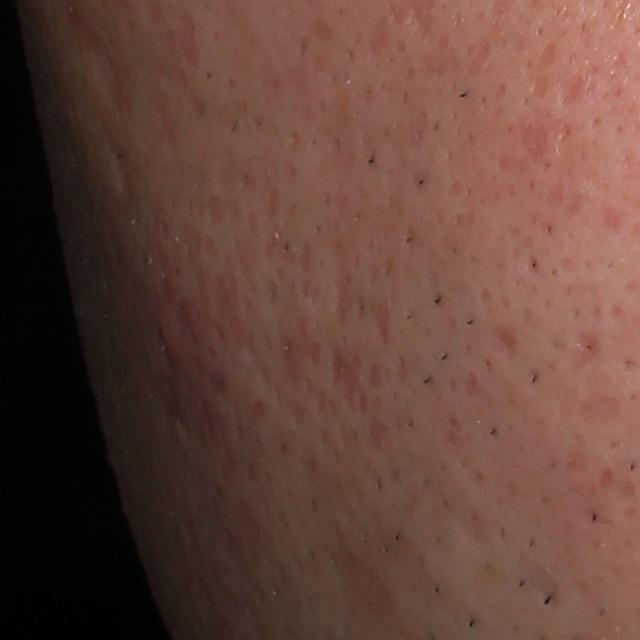atrophic_scar: (81, 25, 136, 111), (201, 272, 242, 347), (108, 138, 140, 200), (577, 388, 625, 428), (562, 328, 601, 375), (332, 349, 360, 410), (464, 31, 494, 82), (523, 125, 550, 167), (489, 325, 516, 359), (369, 302, 390, 344), (561, 71, 585, 105), (529, 74, 552, 103), (533, 41, 556, 69)
